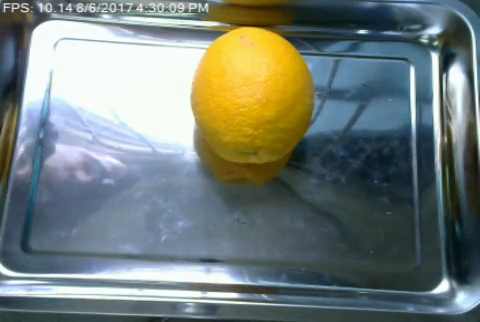Orange: (190, 26, 316, 163)
